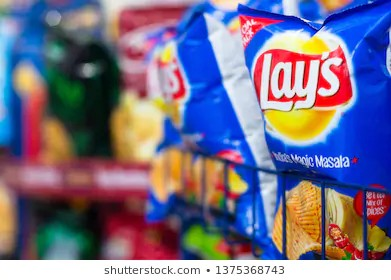lays-med: (238, 1, 390, 256)
